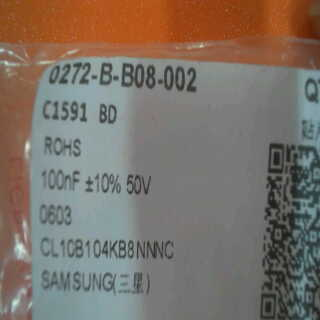100nF: (33, 166, 83, 189)
